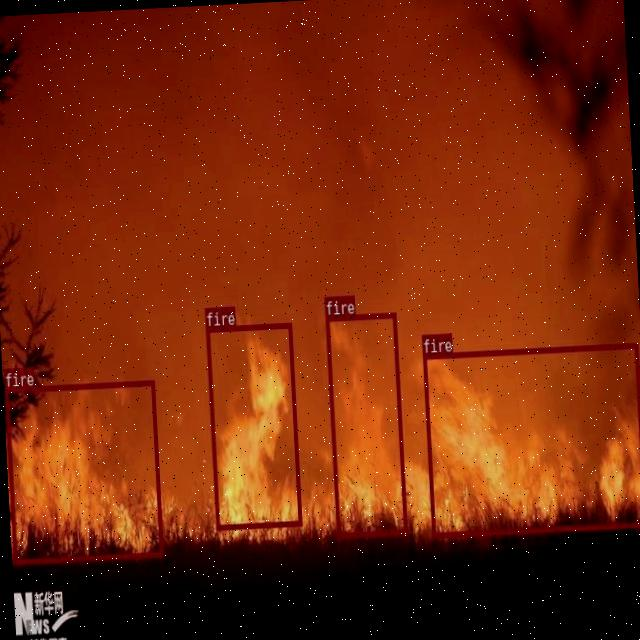fire: (421, 343, 640, 537), (4, 379, 163, 564), (206, 322, 302, 528), (324, 312, 407, 538)
